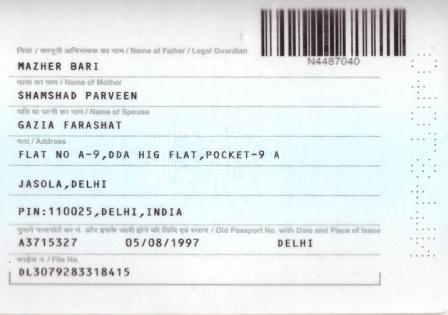File_no: (14, 267, 131, 279)
address: (14, 146, 312, 223)
father_name: (14, 58, 103, 73)
mother_name: (17, 87, 140, 103)
old_passport_details: (16, 235, 331, 253)
passport_no: (304, 54, 364, 69)
spouse_name: (17, 117, 126, 131)
